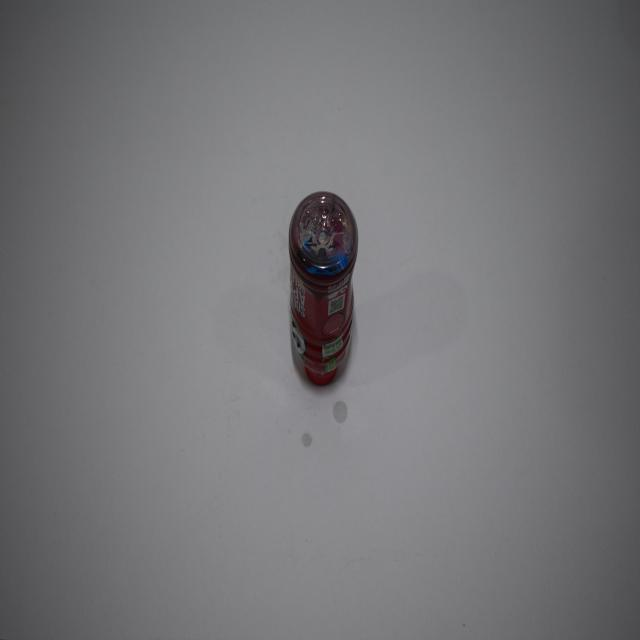bottle: (275, 172, 365, 400)
